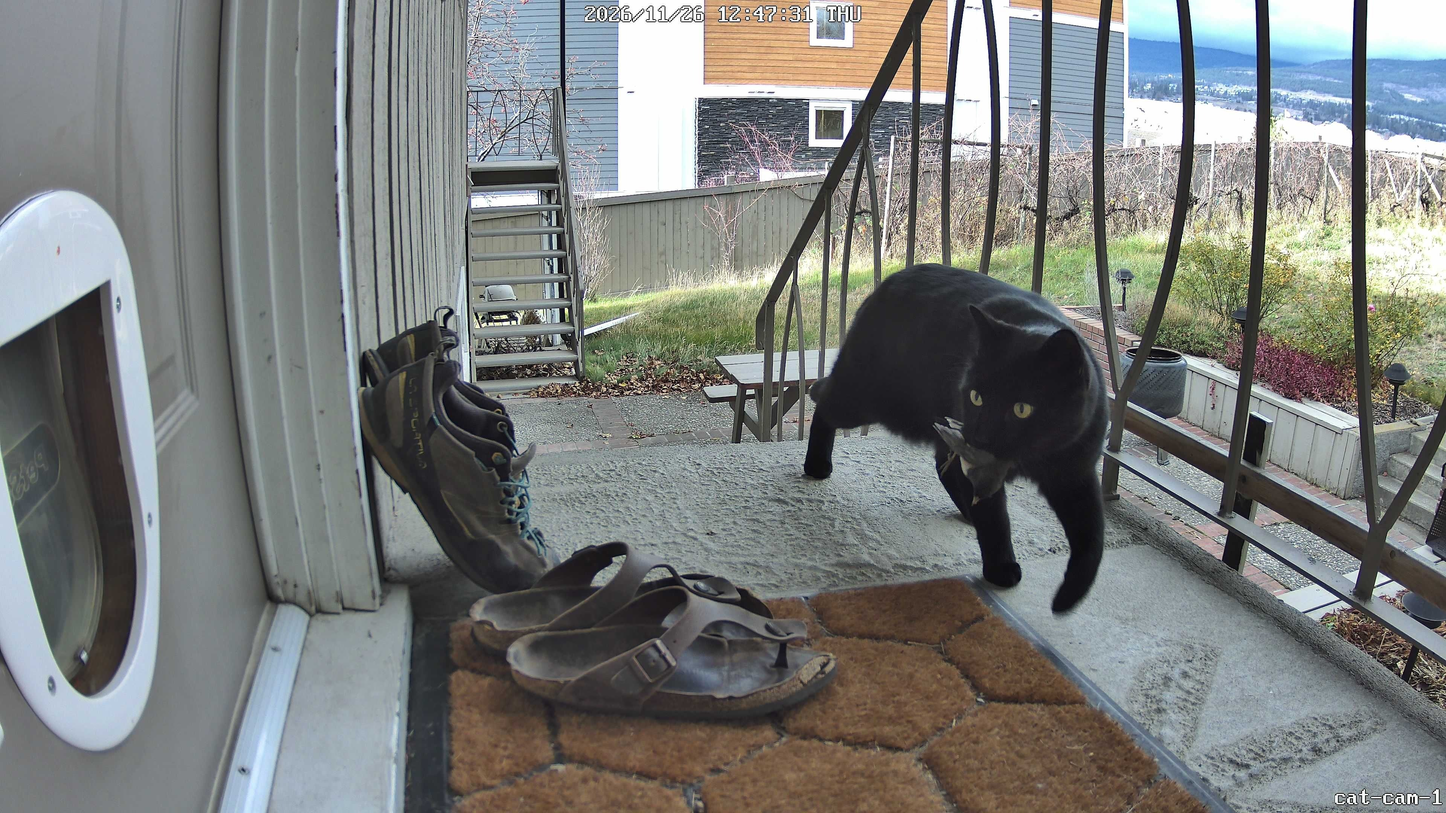prey: (911, 402, 1056, 524)
